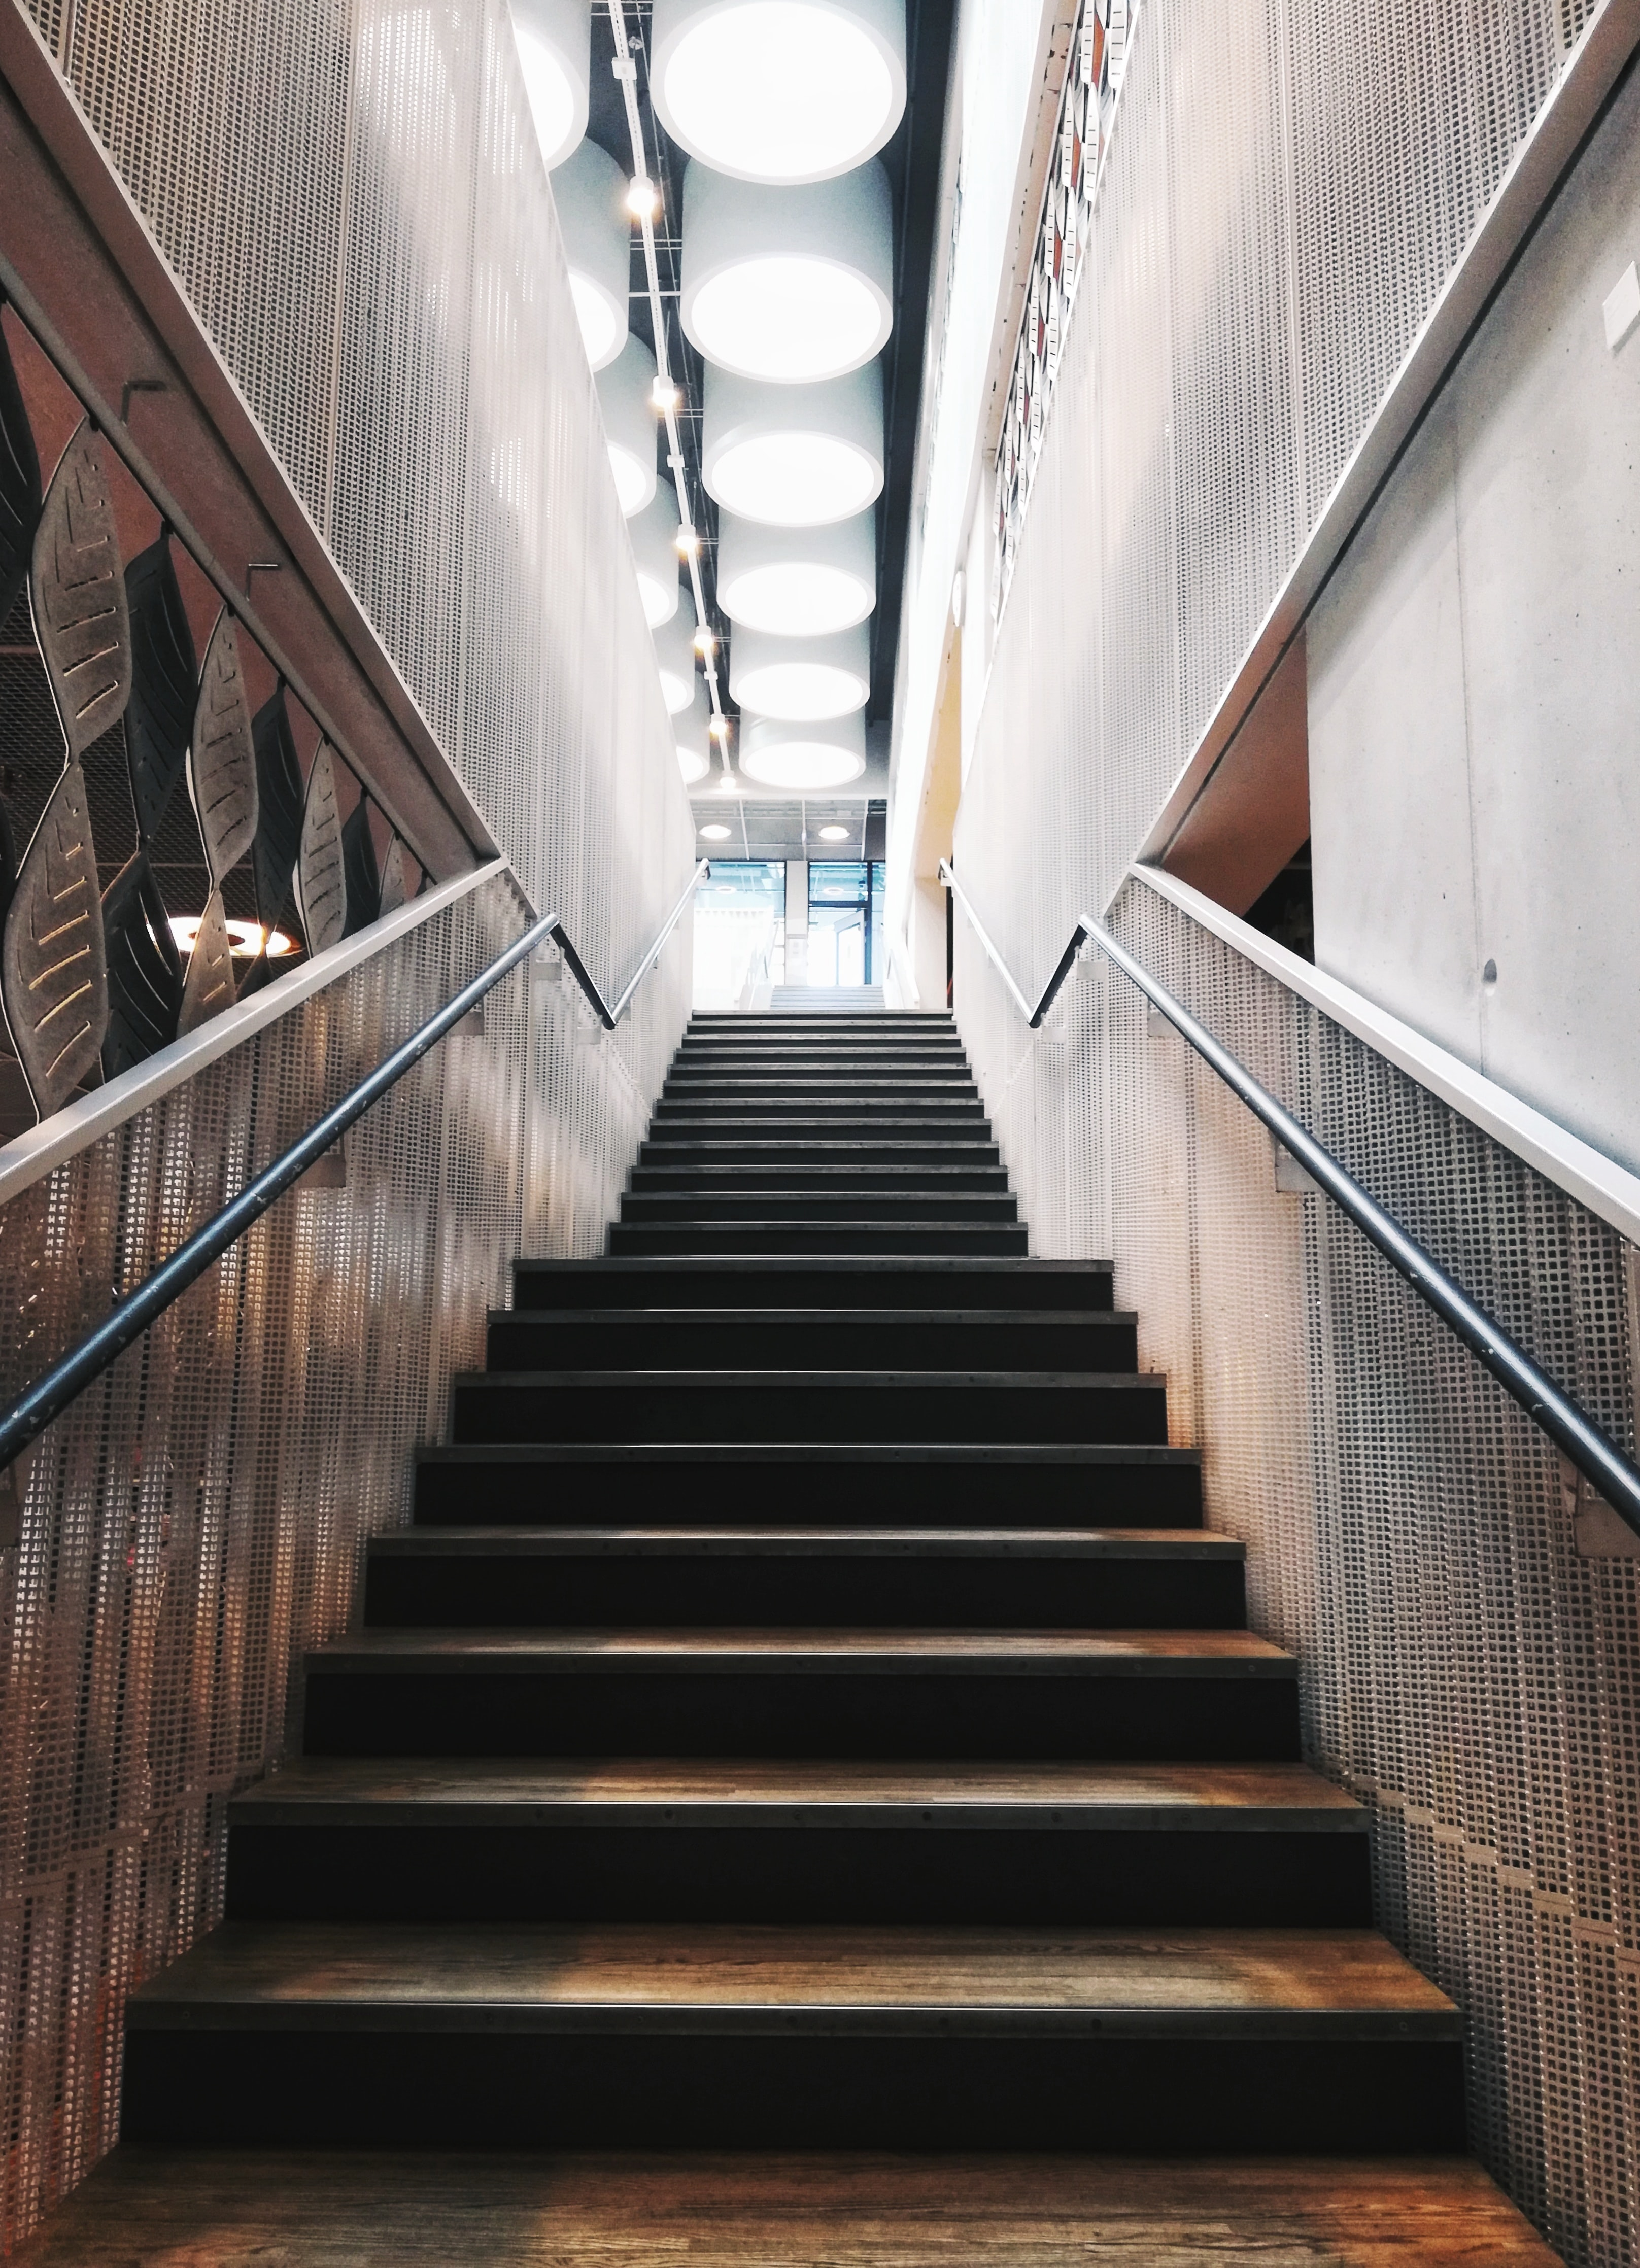upstairs: (476, 1326, 1180, 2236)
